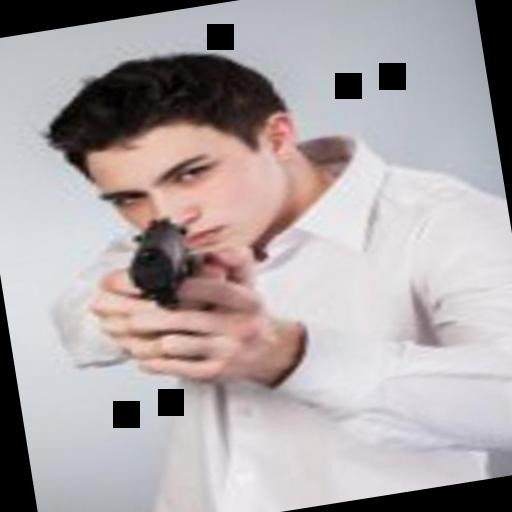Handgun: (104, 200, 210, 322)
